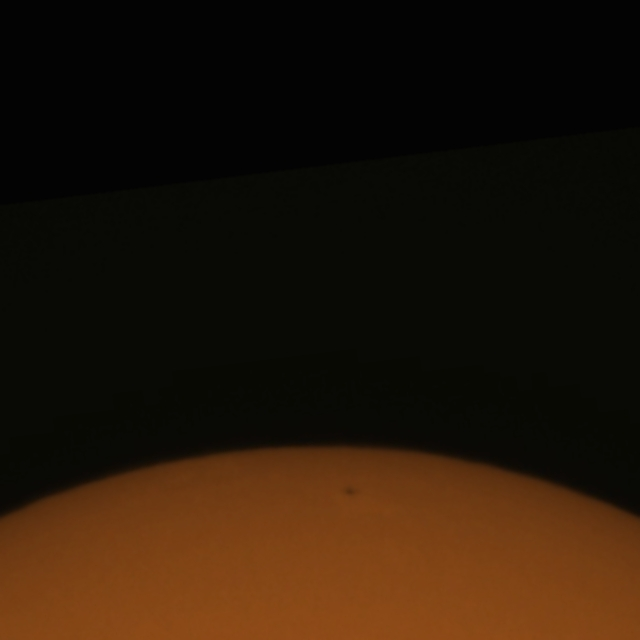sunspot: (340, 484, 361, 501)
